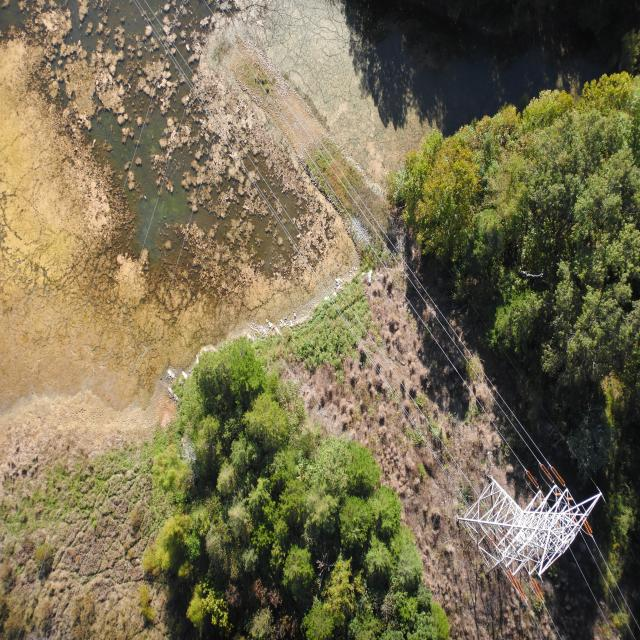Area of Interest: (410, 67, 635, 503), (174, 352, 454, 623)
